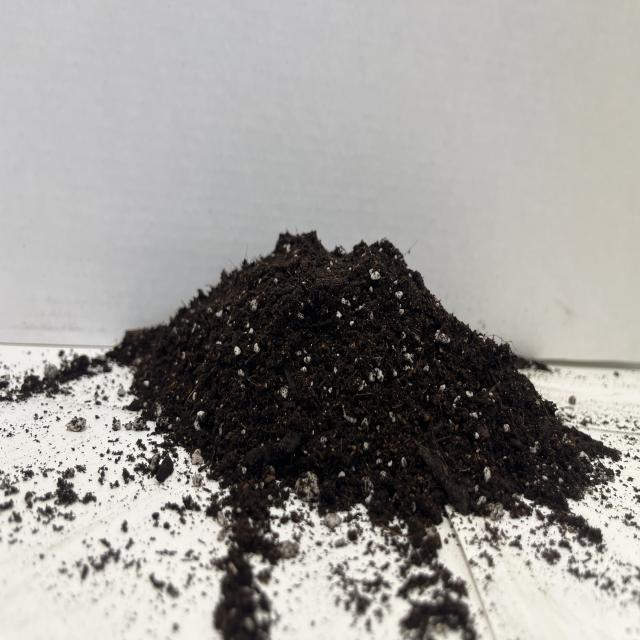soil: (112, 226, 620, 540)
